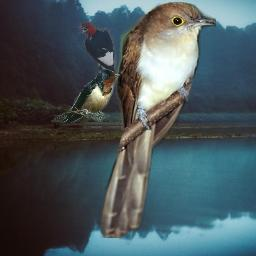Cuckoo: (101, 0, 216, 238)
Swallow: (51, 69, 120, 123)
Woodpecker: (77, 20, 120, 81)
